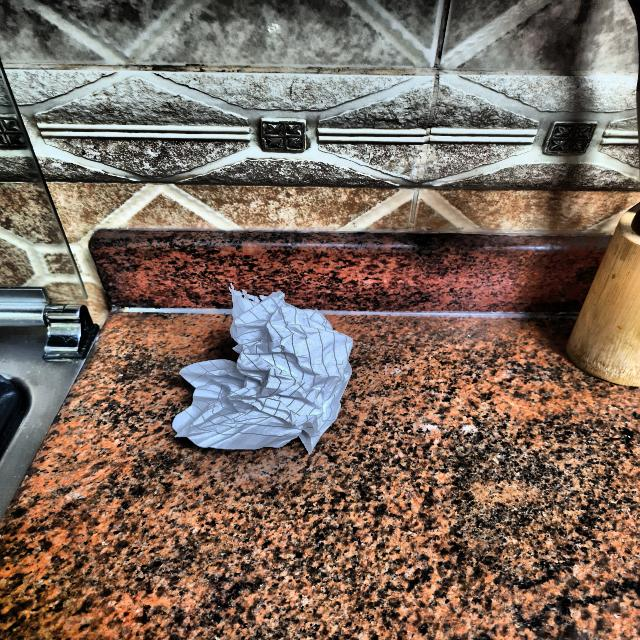Paper: (170, 288, 362, 452)
